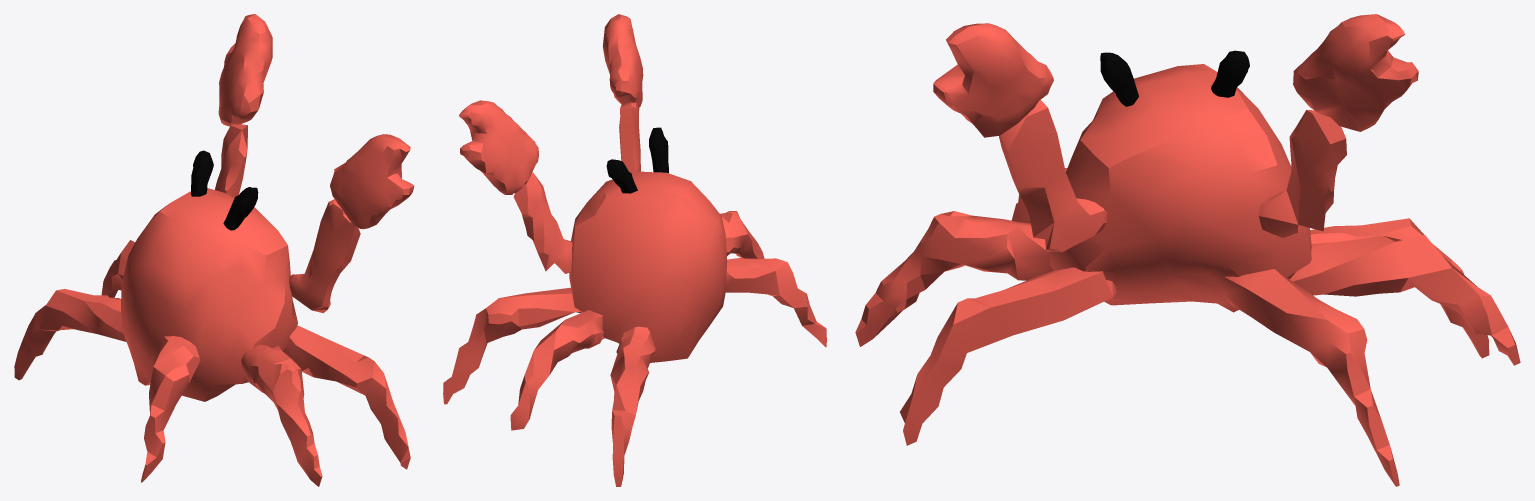
Rendered from crab.fbx.
The picture shows the model from 3 angles, left to right: view 1: azimuth 30°, elevation 25°; view 2: azimuth 150°, elevation 25°; view 3: azimuth 270°, elevation 25°; orthographic projection. The views are drawn at different scales.
Parts seen in each view (by area): view 1: Cube.009, Cube.001, Cube.007, Cube.006, Cube.004, Cube.008, Cube.010, Cube.005, Cube.011, Cube.012, Cube.003; view 2: Cube.009, Cube.008, Cube.002, Cube.004, Cube.003, Cube.005, Cube.011, Cube.007, Cube.012, Cube.010, Cube.006; view 3: Cube.009, Cube.001, Cube.003, Cube.002, Cube.006, Cube.008, Cube.007, Cube.010, Cube.011, Cube.004, Cube.012.
Part boxes in pixels (bbox=[...]): Cube.009: bbox=[121, 188, 297, 401]; Cube.001: bbox=[283, 325, 410, 469]; Cube.007: bbox=[330, 134, 414, 229]; Cube.006: bbox=[241, 344, 322, 486]; Cube.004: bbox=[14, 289, 126, 380]; Cube.008: bbox=[218, 14, 272, 126]; Cube.010: bbox=[289, 199, 360, 313]; Cube.005: bbox=[141, 336, 200, 482]; Cube.011: bbox=[215, 124, 247, 197]; Cube.012: bbox=[191, 150, 258, 230]; Cube.003: bbox=[101, 240, 134, 297]; Cube.009: bbox=[569, 171, 727, 362]; Cube.008: bbox=[459, 100, 538, 194]; Cube.002: bbox=[443, 287, 580, 404]; Cube.004: bbox=[610, 326, 655, 486]; Cube.003: bbox=[510, 310, 604, 430]; Cube.005: bbox=[725, 258, 826, 347]; Cube.011: bbox=[513, 172, 572, 273]; Cube.007: bbox=[602, 14, 643, 107]; Cube.012: bbox=[606, 127, 668, 193]; Cube.010: bbox=[619, 102, 640, 172]; Cube.006: bbox=[720, 211, 764, 258]; Cube.009: bbox=[1045, 64, 1311, 312]; Cube.001: bbox=[900, 267, 1116, 445]; Cube.003: bbox=[1290, 234, 1520, 365]; Cube.002: bbox=[1222, 269, 1399, 486]; Cube.006: bbox=[855, 211, 1053, 346]; Cube.008: bbox=[1293, 14, 1418, 131]; Cube.007: bbox=[933, 23, 1053, 137]; Cube.010: bbox=[999, 100, 1106, 252]; Cube.011: bbox=[1258, 109, 1346, 237]; Cube.004: bbox=[1310, 218, 1489, 358]; Cube.012: bbox=[1100, 50, 1249, 106].
Size of the model in its own units: 111 by 130 by 167.
